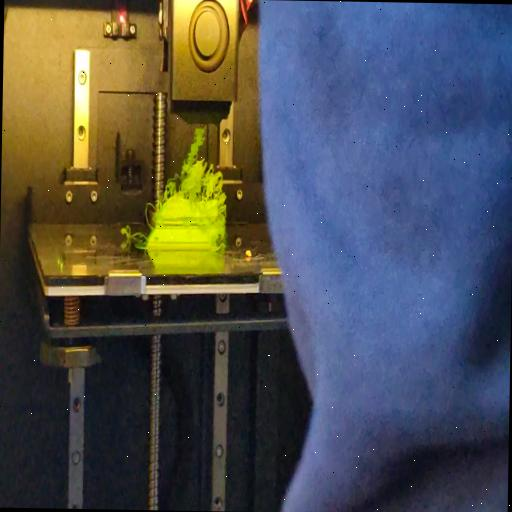spaghetti: (161, 122, 224, 197), (118, 224, 149, 242), (143, 201, 158, 230), (214, 238, 225, 247)
